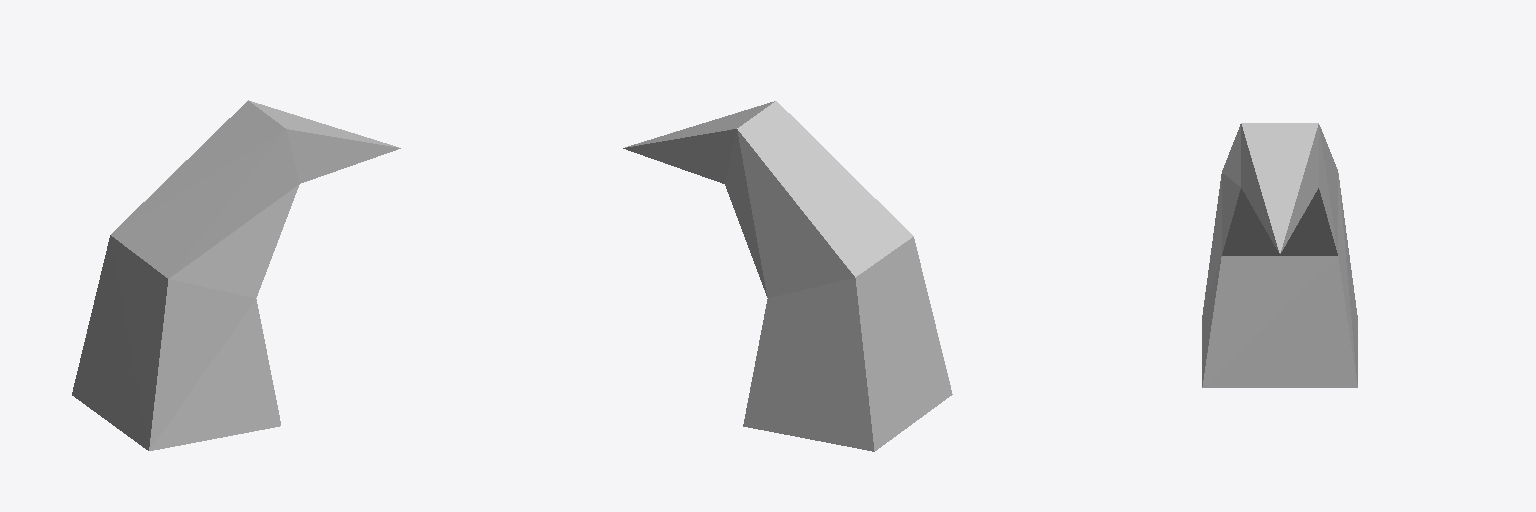
Rendered from skeletal_000008.obj.
3 views of the same model, side by side, from view 1: azimuth 30°, elevation 25°; view 2: azimuth 150°, elevation 25°; view 3: azimuth 270°, elevation 25° (orthographic).
Visible parts, largest first — view 1: Cube; view 2: Cube; view 3: Cube.
Boxes of the visible parts, x1=… form: Cube: x1=72, y1=100, x2=400, y2=450; Cube: x1=623, y1=101, x2=952, y2=451; Cube: x1=1202, y1=123, x2=1357, y2=387.
Bounding box in the file's own units: 4.34 × 3.94 × 2.